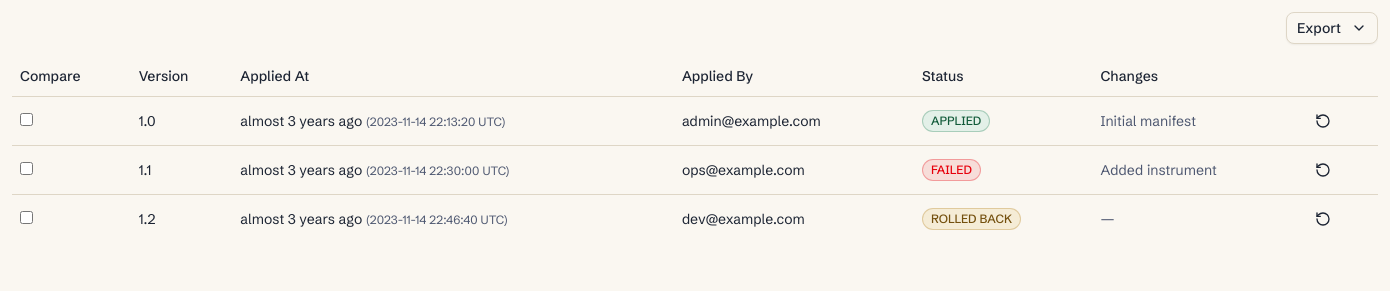
ManifestHistoryTable › clears selection when clear button is clicked
Click the checkbox with test id "compare-checkbox-1.0": (26, 119) left=20, top=112, right=33, bottom=126
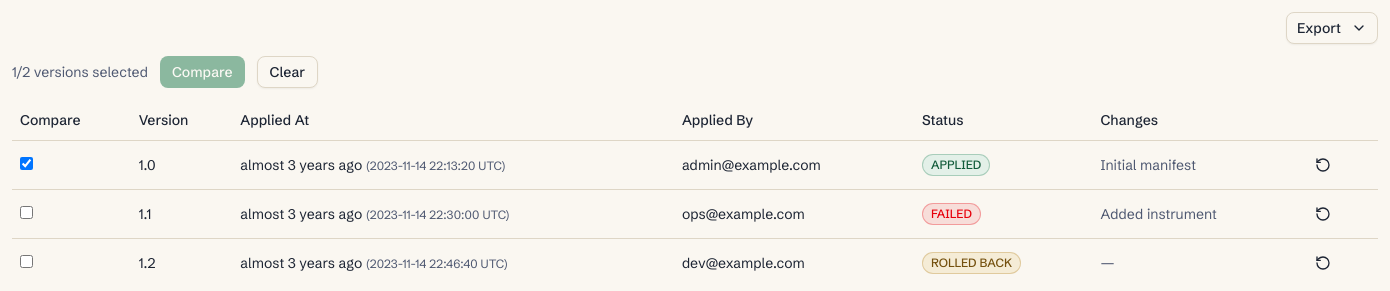
Expected: the element with test id "compare-toolbar" is shown, left=12, top=56, right=318, bottom=88
Click the button "Clear": (287, 72) left=257, top=56, right=318, bottom=88
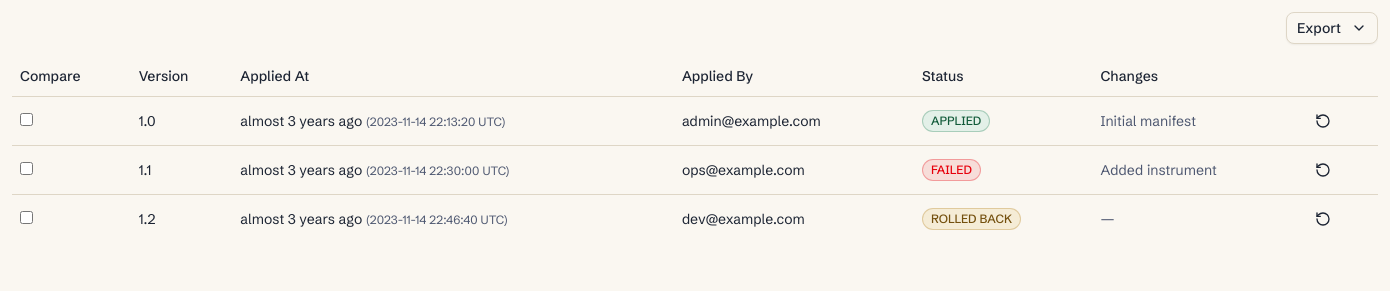
Expected: the element with test id "compare-toolbar" is gone
